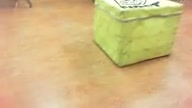cube: (94, 1, 183, 68)
